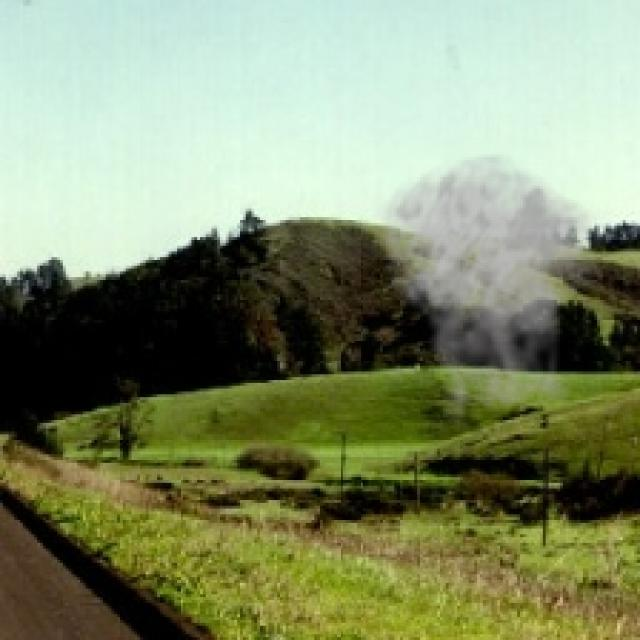smoke: (372, 152, 612, 428)
